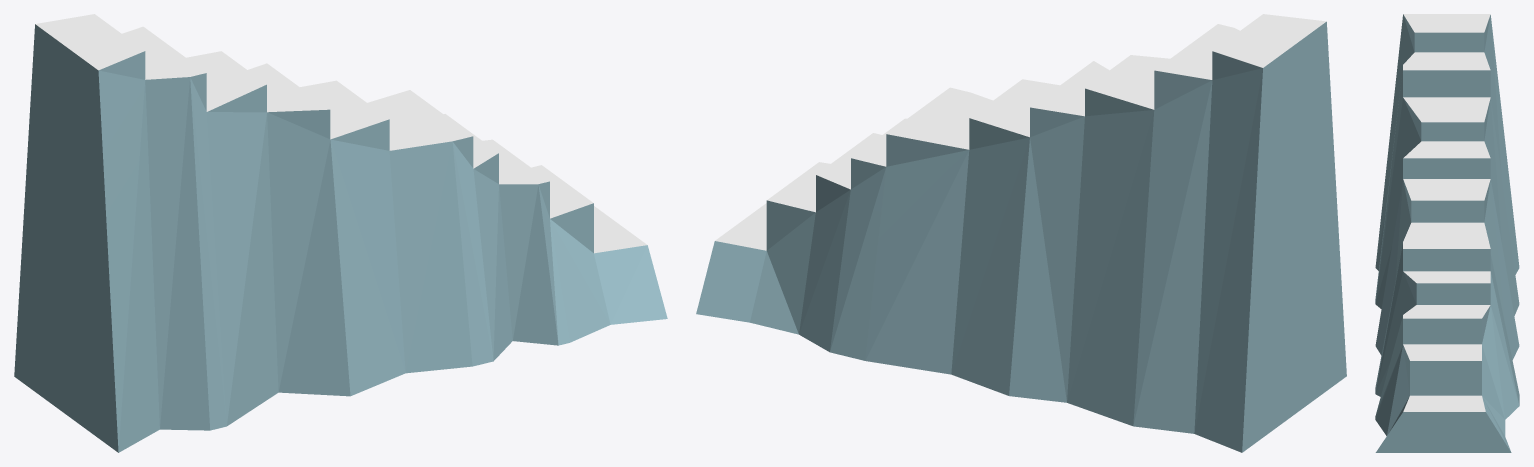
File: Terrain_Modular_Tiles_Snow_Ice_Stairs_03.fbx
3 views of the same model, side by side, from view 1: azimuth 30°, elevation 25°; view 2: azimuth 150°, elevation 25°; view 3: azimuth 270°, elevation 25° (orthographic). The views are drawn at different scales.
Parts seen in each view (by area): view 1: Terrain_Modular_Tiles_Snow_Ice_Stairs_03; view 2: Terrain_Modular_Tiles_Snow_Ice_Stairs_03; view 3: Terrain_Modular_Tiles_Snow_Ice_Stairs_03.
Part boxes in pixels (x1=…): Terrain_Modular_Tiles_Snow_Ice_Stairs_03: x1=14, y1=14, x2=667, y2=452; Terrain_Modular_Tiles_Snow_Ice_Stairs_03: x1=696, y1=14, x2=1346, y2=452; Terrain_Modular_Tiles_Snow_Ice_Stairs_03: x1=1375, y1=14, x2=1519, y2=452.
Bounding box in the file's own units: 3750 × 2400 × 1234.
